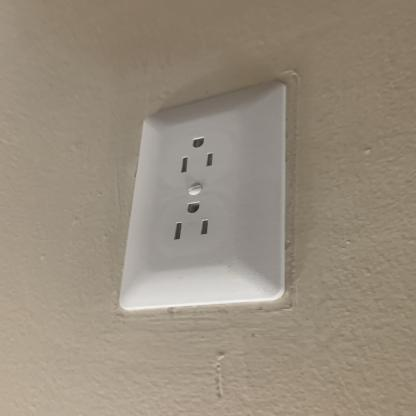OUTLET: (118, 77, 304, 312)
